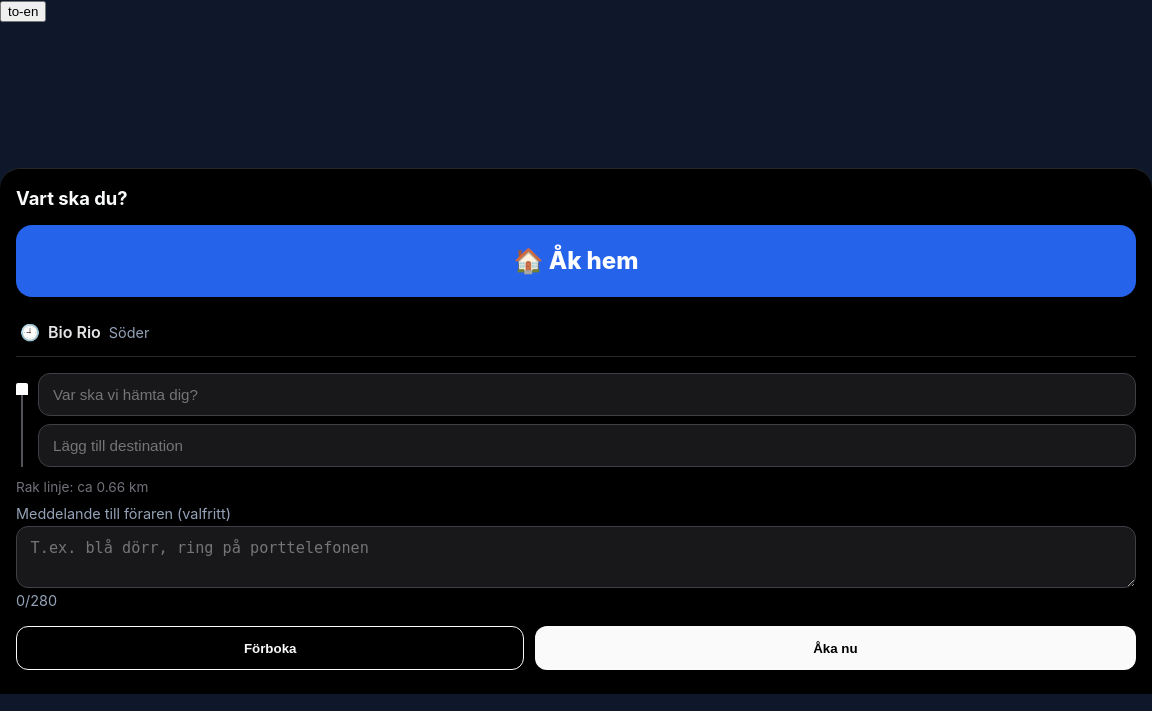
Home screen "Vart ska du?" › slow GPS that fails after Åk hem: shows "Välj var du är" guidance
The image size is (1152, 711).
Click the button "🏠 Åk hem" at [576, 261], box [16, 225, 1136, 297]
Wait 40 ms
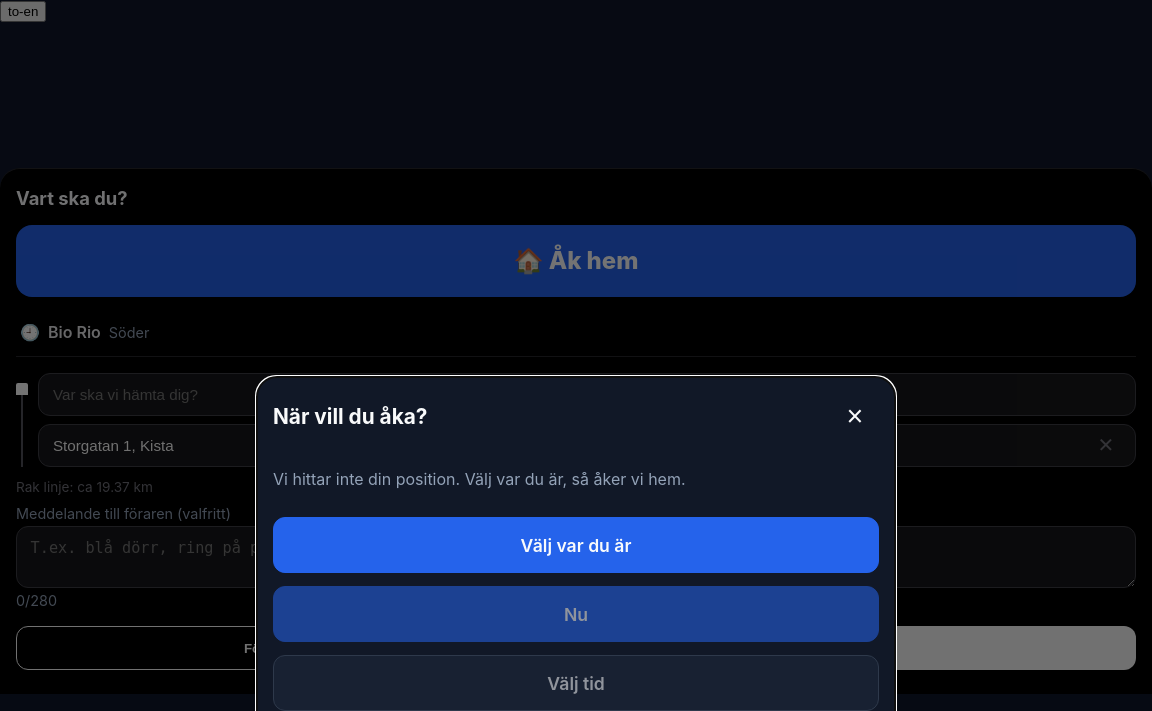
Check: the button "Välj var du är" is shown, box [273, 517, 879, 573]
Check: the button "Nu" is disabled, box [273, 586, 879, 642]
